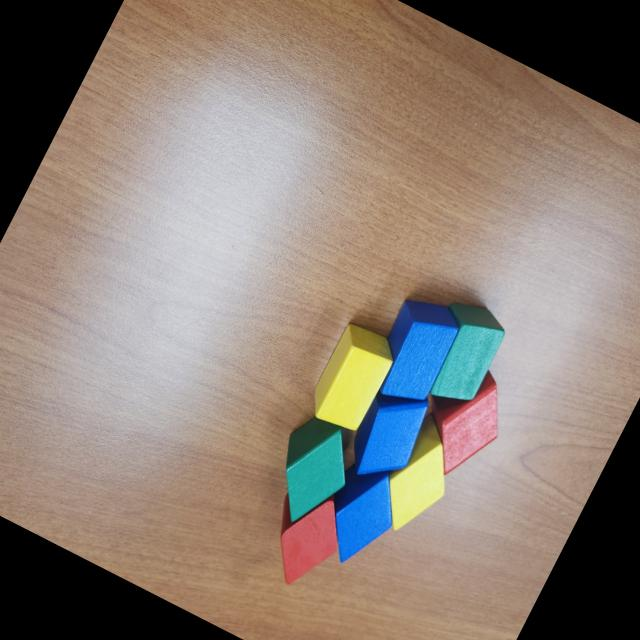blue: (306, 452, 414, 576), (362, 289, 466, 414), (339, 375, 439, 494)
green: (254, 407, 368, 537), (407, 292, 513, 416)
red: (402, 350, 524, 490), (250, 474, 358, 598)
yellow: (365, 408, 475, 544), (304, 318, 402, 436)
